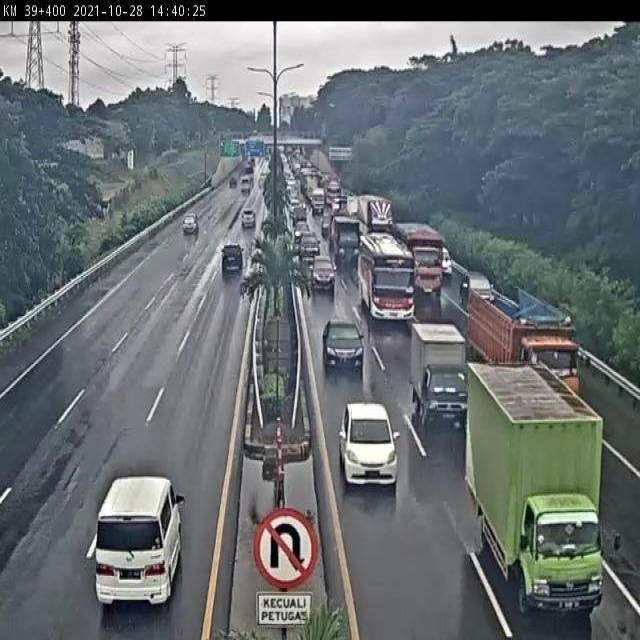Bus: (354, 234, 417, 322)
Car: (339, 401, 400, 488), (322, 319, 364, 378), (462, 269, 493, 307), (312, 255, 336, 293), (220, 243, 243, 274), (299, 232, 320, 261), (293, 220, 310, 242), (441, 247, 452, 278), (182, 214, 199, 234), (240, 209, 256, 228), (229, 178, 238, 189)
Truck: (462, 360, 623, 616), (467, 282, 591, 396), (407, 319, 470, 426), (393, 220, 446, 299), (355, 193, 395, 236), (332, 215, 362, 266)
Van: (92, 476, 184, 606)
